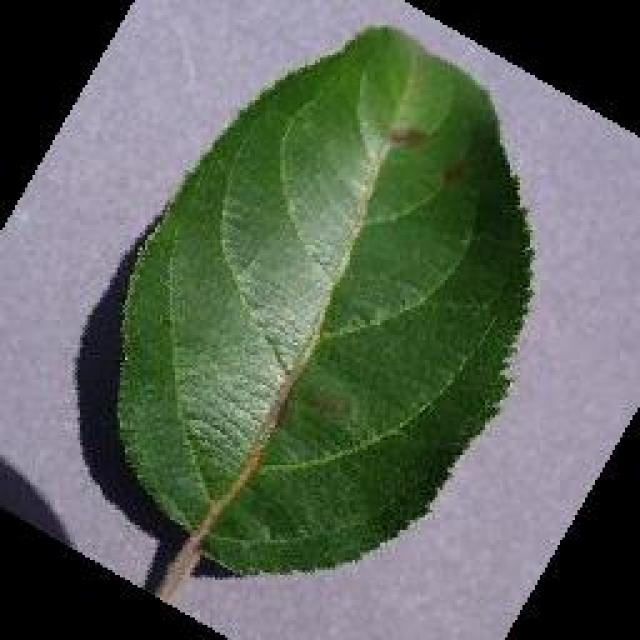apple scab disease: (102, 20, 538, 585)
